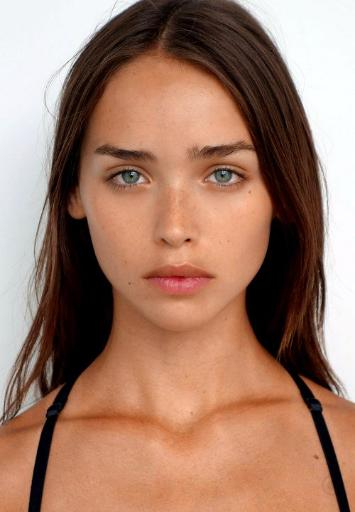left_eye: (202, 166, 251, 193)
left_lip_corner: (206, 269, 218, 287)
right_eye: (104, 168, 154, 193)
right_lip_corner: (141, 272, 154, 288)
